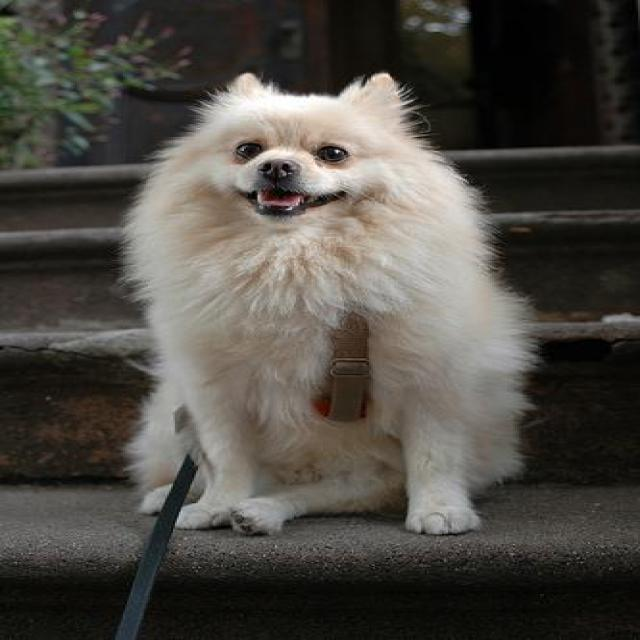sitting: (108, 66, 538, 538)
